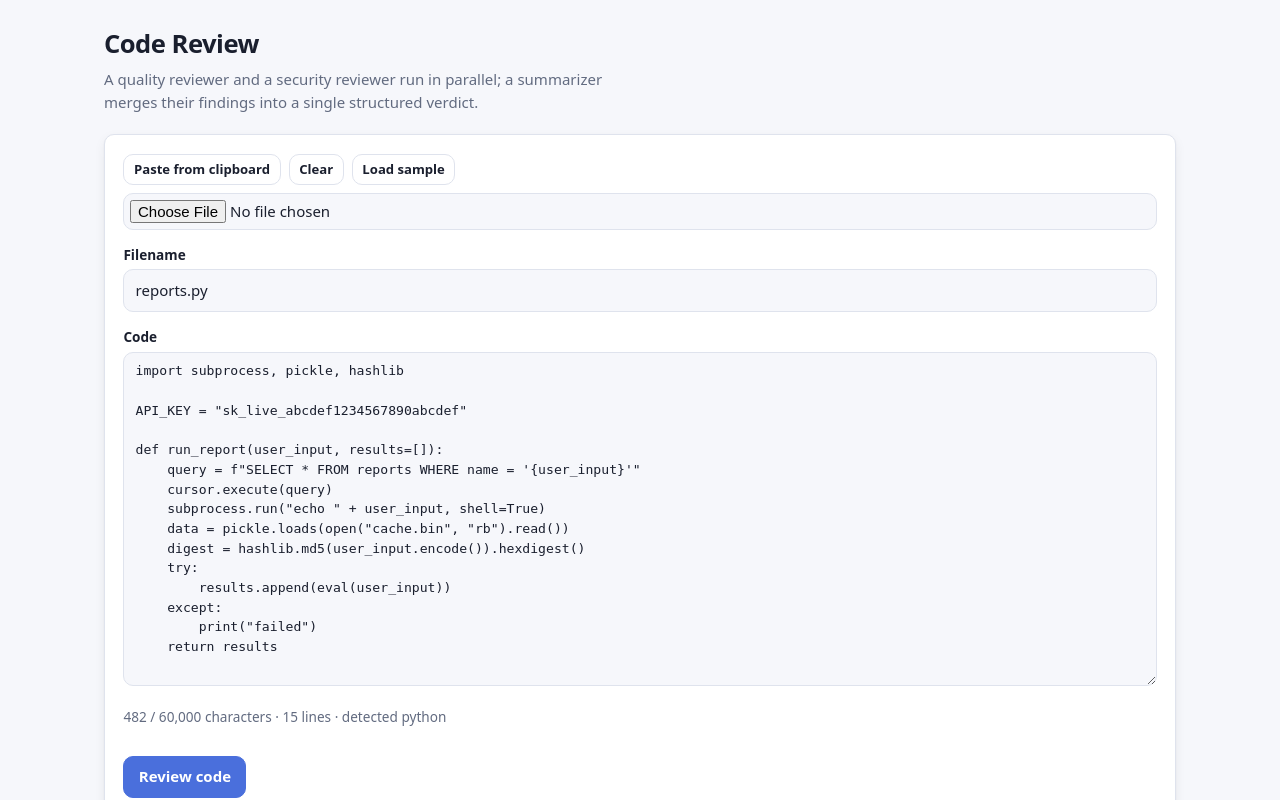
CodeReview › renders findings grouped by severity with the verdict
The image size is (1280, 800).
What coordinates should you click on to do the following:
click the button "Review code"
I would click on:
 (185, 777)
Its box is [123,756,246,798].
(page scrolled)
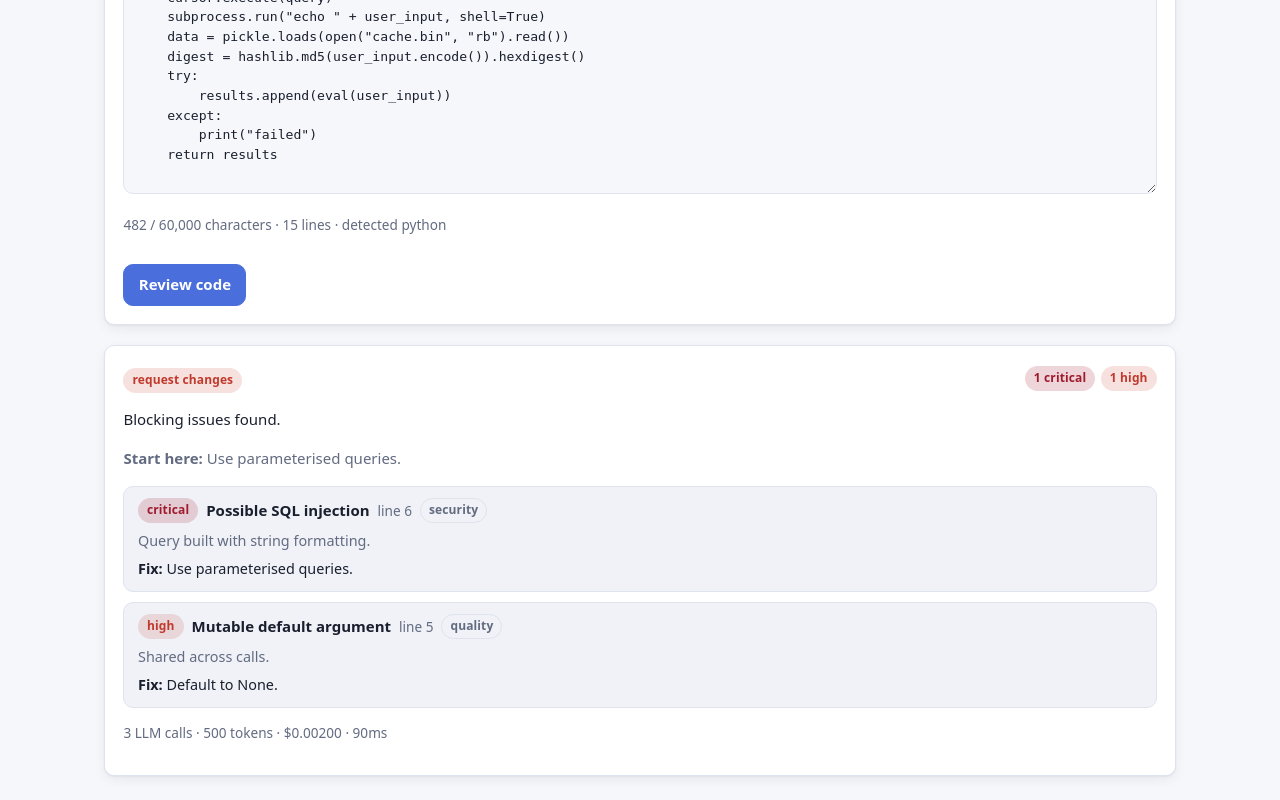
Check: the text "Request changes" is shown, box [123,368,242,393]
Check: the text "Possible SQL injection" is shown, box [206,499,370,522]
Check: the text "security" is shown, box [420,498,487,523]
